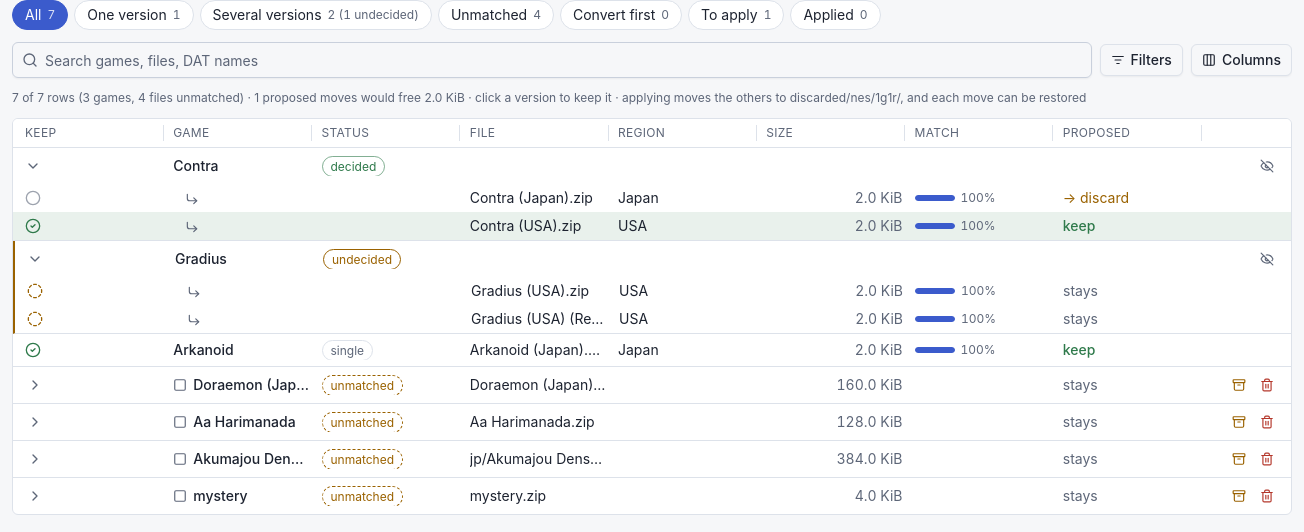
Test: unmatched files are rows of the table, with a quick view of their own
Check: the radio button "One version" reads "One version 1", box 74,0 -> 194,30
Check: the button "Doraemon (Japan) (Rev 1)" is shown, box 193,375 -> 310,395
Click the radio button "Unmatched": (496, 15) 438,0 -> 554,30
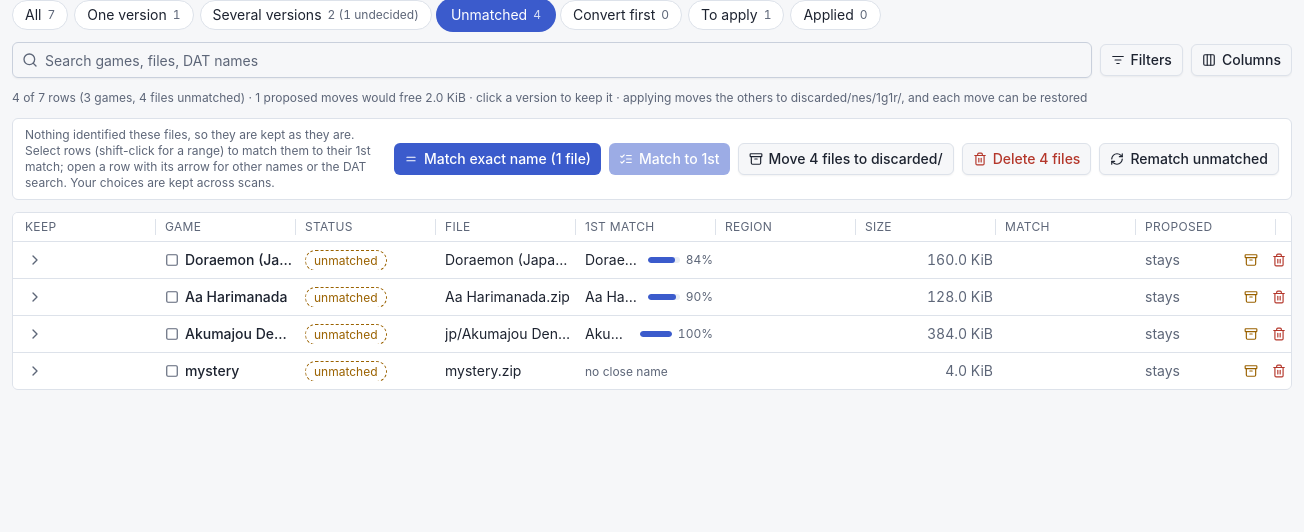
Check: the button "Doraemon (Japan) (Rev 1)" is shown, box 185,250 -> 293,270
Check: the button "Contra" is gone
Check: the button "Rematch unmatched" is shown, box 1099,143 -> 1279,175
